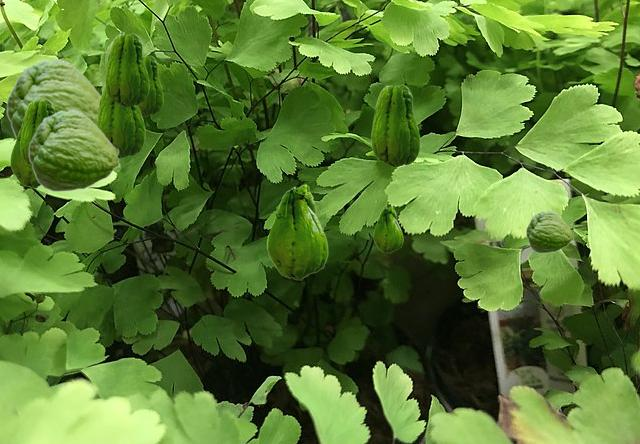sayote: (6, 58, 100, 139), (28, 109, 120, 191), (267, 184, 327, 279), (371, 84, 419, 166), (96, 83, 144, 157), (105, 33, 148, 106), (20, 99, 55, 165), (526, 210, 573, 252), (10, 123, 40, 187), (373, 206, 402, 252), (140, 55, 162, 115)
